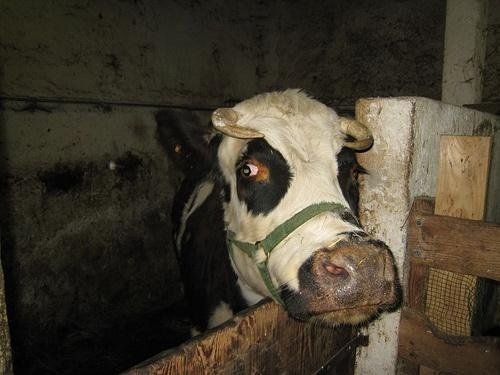cow: (156, 87, 401, 339)
